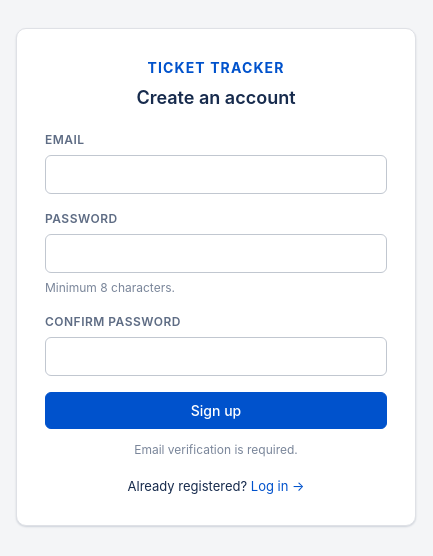
Test case: SignupPage › shows a min-length error and does NOT submit when the password is shorter than 8
The width and height of the screenshot is (433, 556).
Type "alex@dataart.com" into the field labelled "Email".
click(216, 175); type("alex@dataart.com")  # box [45, 155, 387, 194]
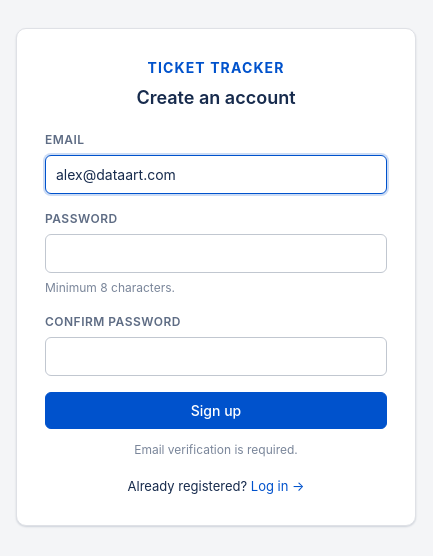
Type "short" into the password field labelled "Password".
click(216, 254); type("short")  # box [45, 234, 387, 273]
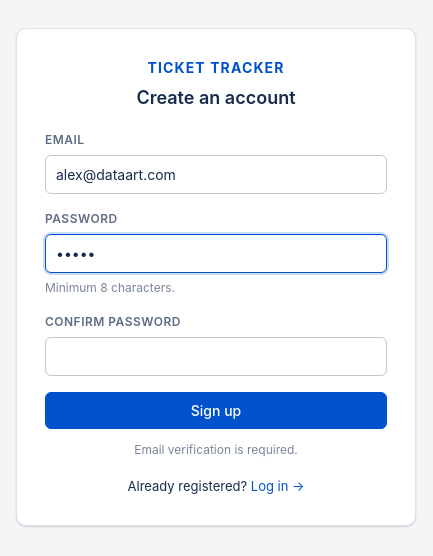
Type "short" into the password field labelled "Confirm password".
click(216, 357); type("short")  # box [45, 337, 387, 376]
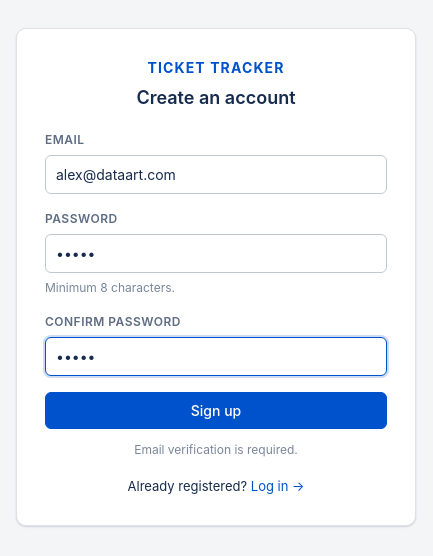
Click the button "Sign up".
click(216, 411)  # box [45, 392, 387, 429]
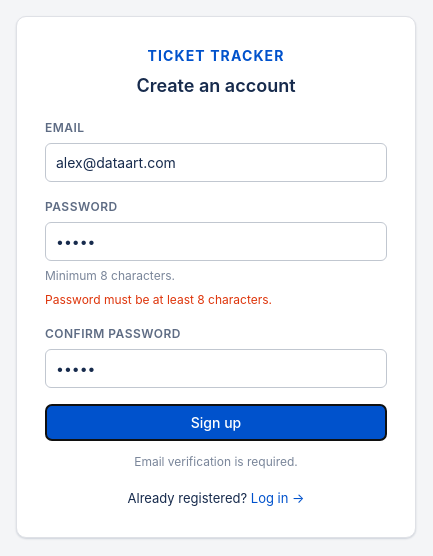
Result: the text "Password must be at least 8 characters." is shown at [45, 292, 272, 307]
